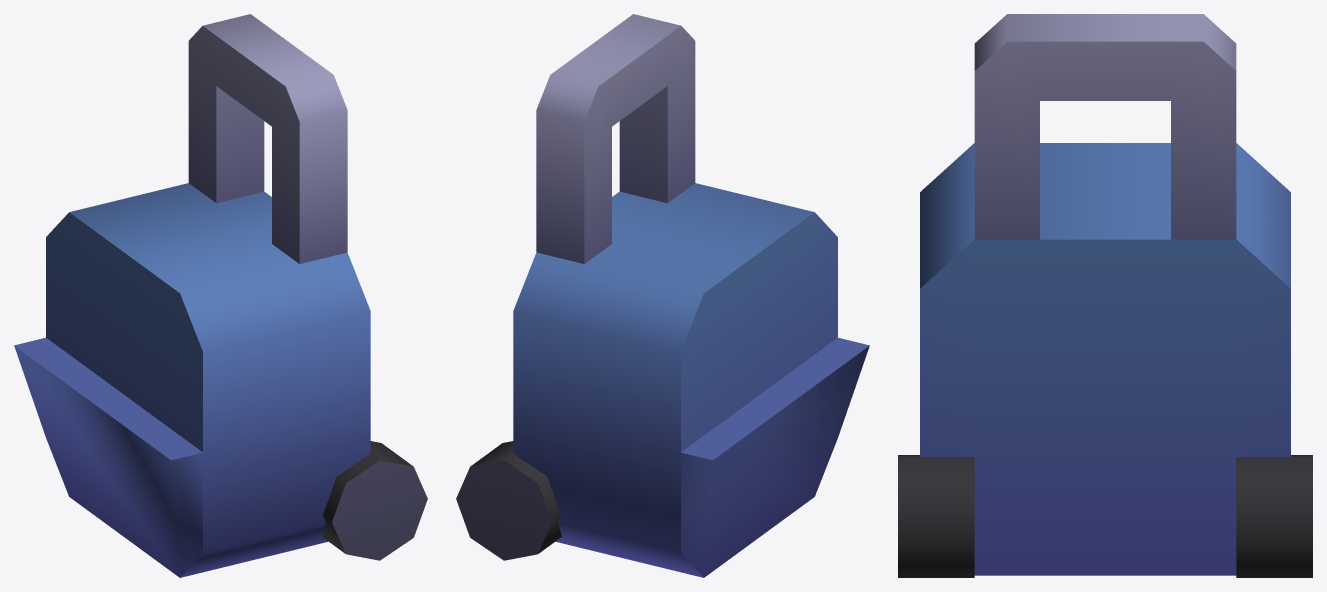
The model's file is luggage_up.fbx.
3 views of the same model, side by side, from view 1: azimuth 30°, elevation 25°; view 2: azimuth 150°, elevation 25°; view 3: azimuth 270°, elevation 25° (orthographic). The views are drawn at different scales.
Parts seen in each view (by area): view 1: item-luggage-upright; view 2: item-luggage-upright; view 3: item-luggage-upright.
Boxes of the visible parts, x1,y1,x2,y2 form: item-luggage-upright: (14, 14, 427, 577); item-luggage-upright: (456, 14, 869, 577); item-luggage-upright: (898, 14, 1312, 577).
Size of the model in its own units: 0.5731 by 1 by 0.7037.
